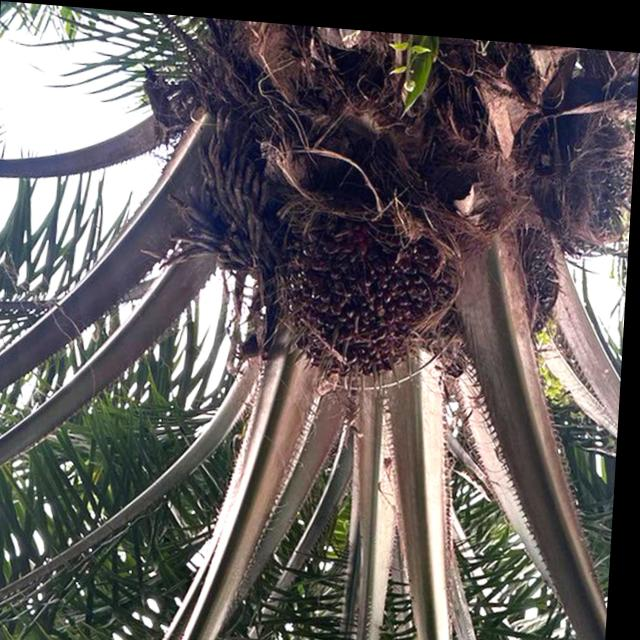ripe: (245, 190, 485, 407)
